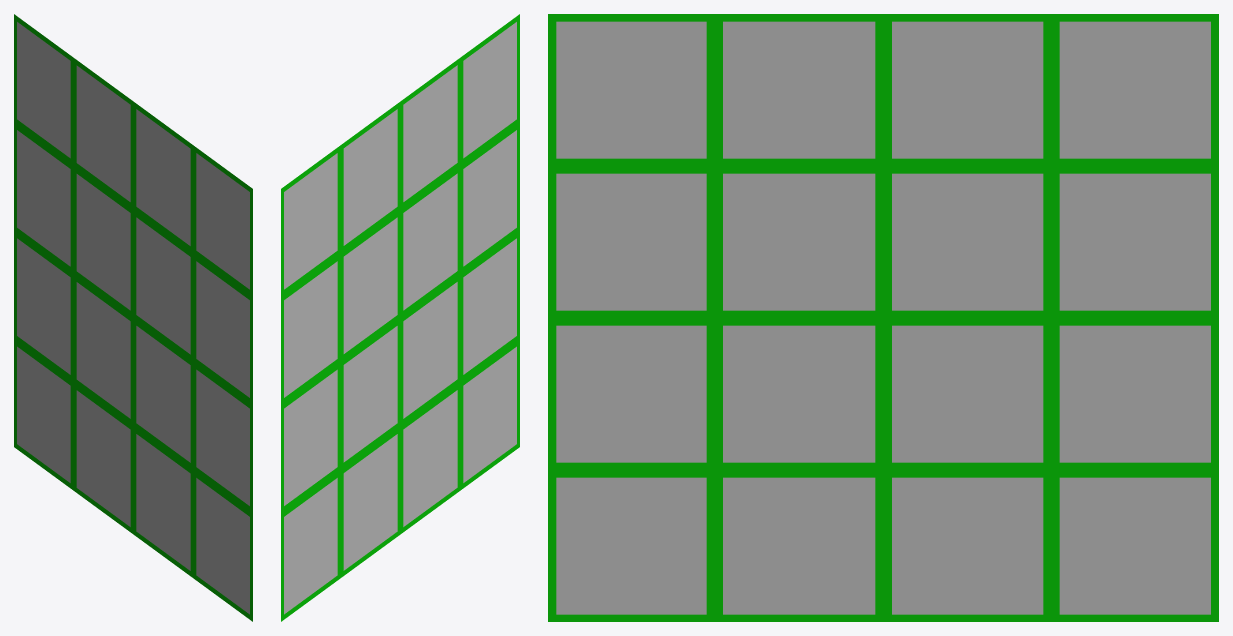
3 views of the same model, side by side, from view 1: azimuth 30°, elevation 25°; view 2: azimuth 150°, elevation 25°; view 3: azimuth 270°, elevation 25° (orthographic). The views are drawn at different scales.
Parts seen in each view (by area): view 1: 平面; view 2: 平面; view 3: 平面.
Part boxes in pixels (<box>): 平面: <box>14,14,252,621</box>; 平面: <box>281,14,519,621</box>; 平面: <box>548,14,1218,621</box>.
Bounding box in the file's own units: 4.77e-05 × 200 × 200.
